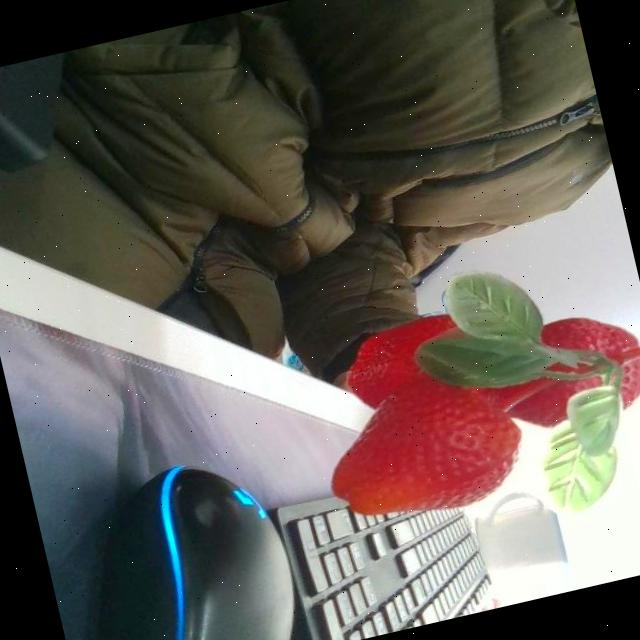strawberry: (313, 366, 532, 532), (497, 298, 640, 435), (339, 302, 509, 409)
